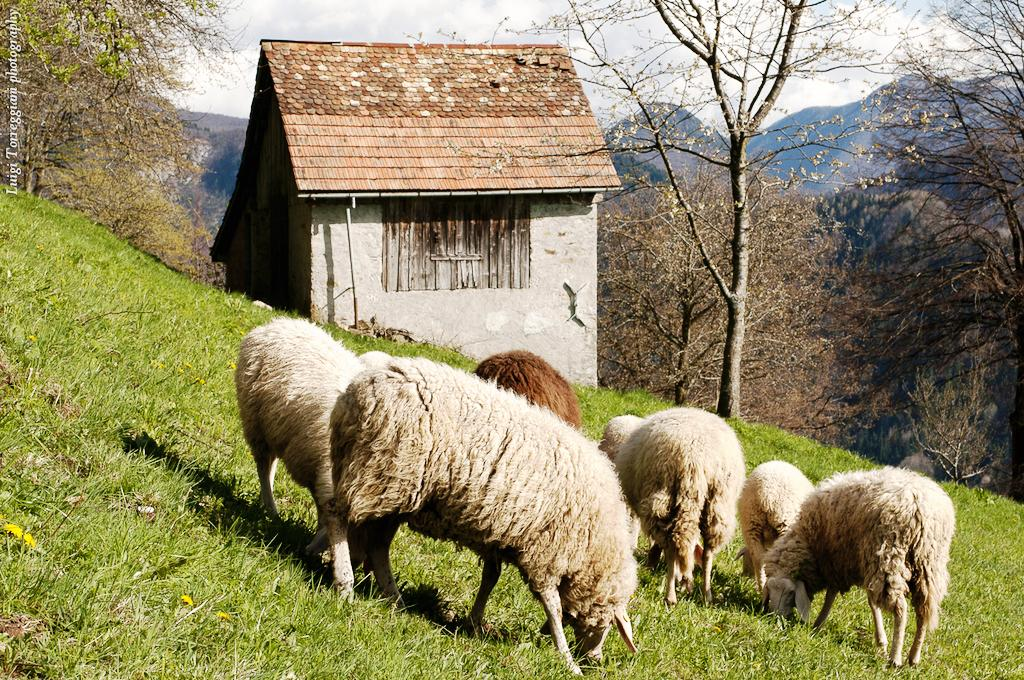Sheep: (326, 352, 638, 679), (761, 469, 962, 674), (233, 309, 377, 589), (598, 402, 752, 612), (467, 341, 586, 495), (733, 451, 818, 619)
